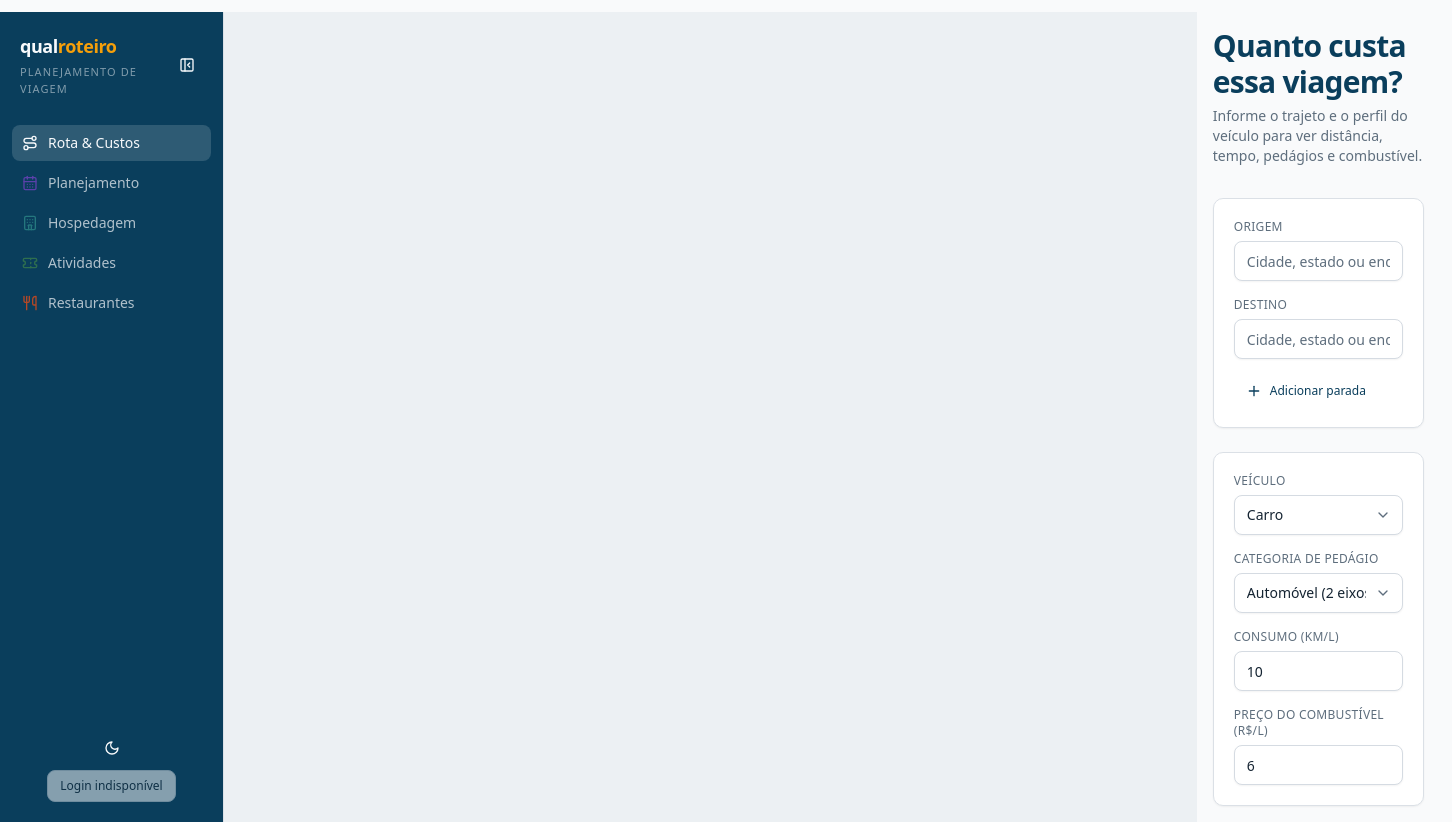
Test: Tela 2 — resultado › keeps the same map container when the result screen opens
The image size is (1452, 822).
Type "São" into the dropdown labelled "Origem" at [1318, 261], box [1234,241,1403,281]
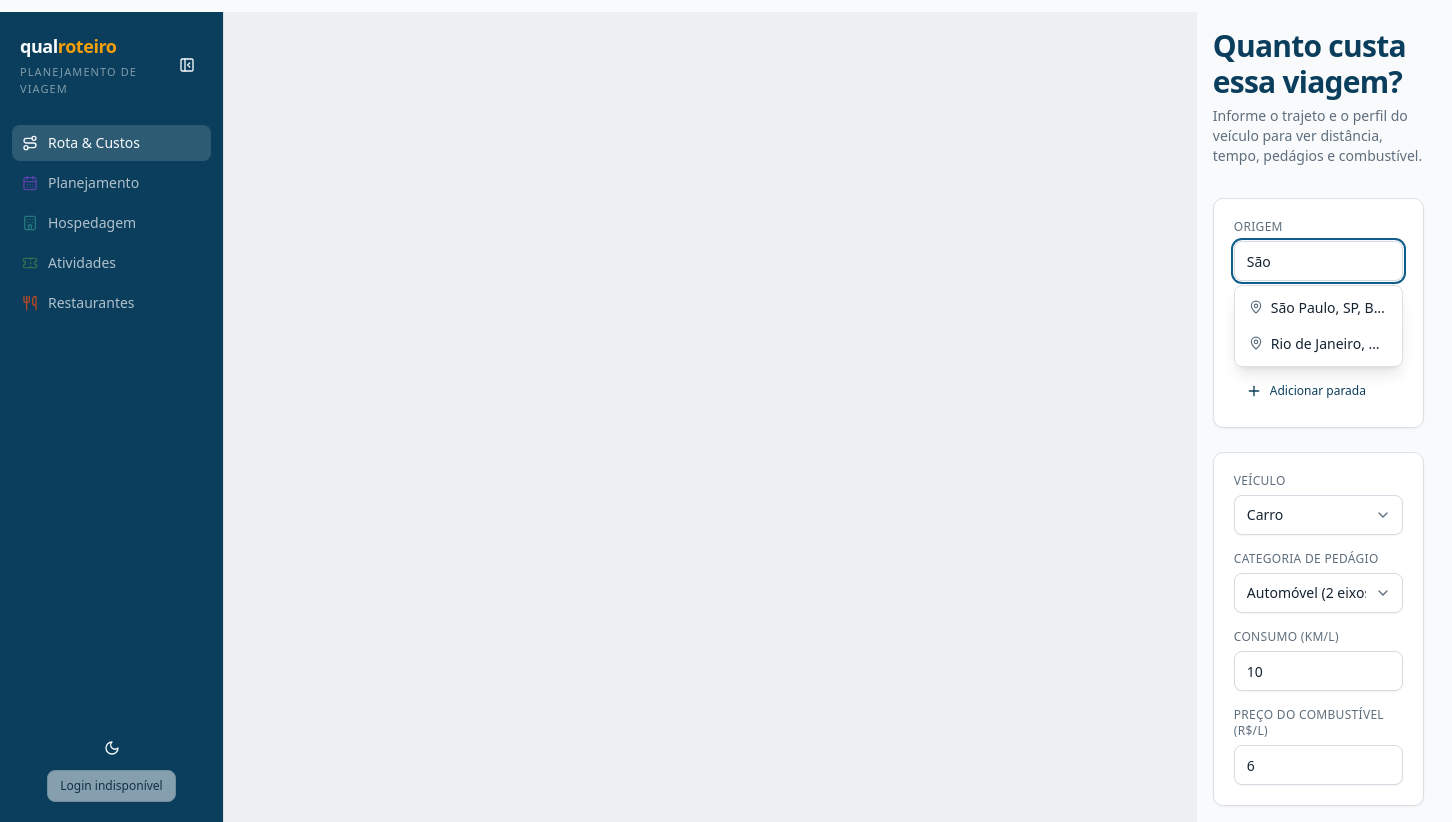
Click the option "São Paulo, SP, Brasil" at [1318, 308], box [1239,290,1398,326]
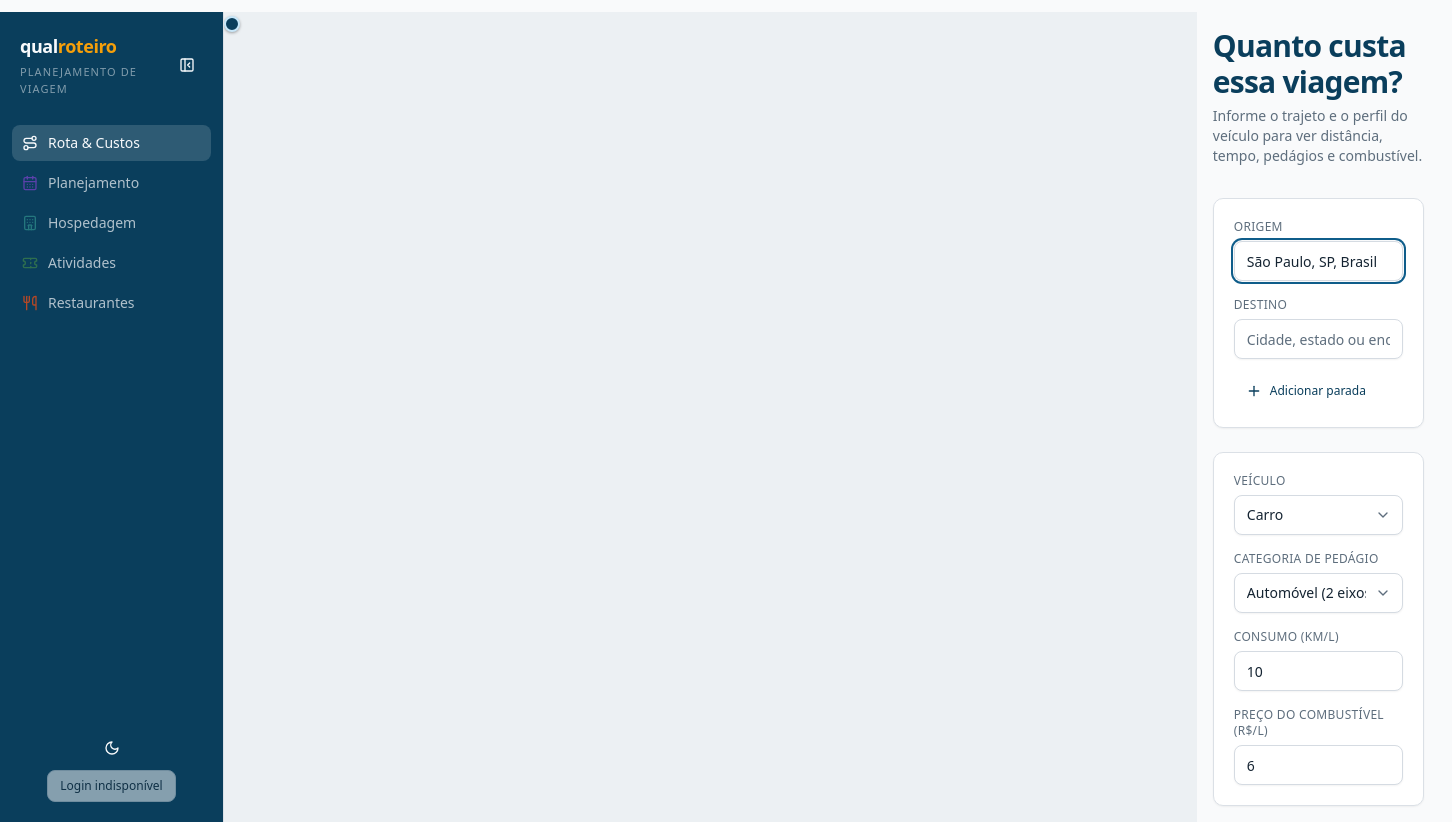
Type "Rio" into the dropdown labelled "Destino" at [1318, 339], box [1234,319,1403,359]
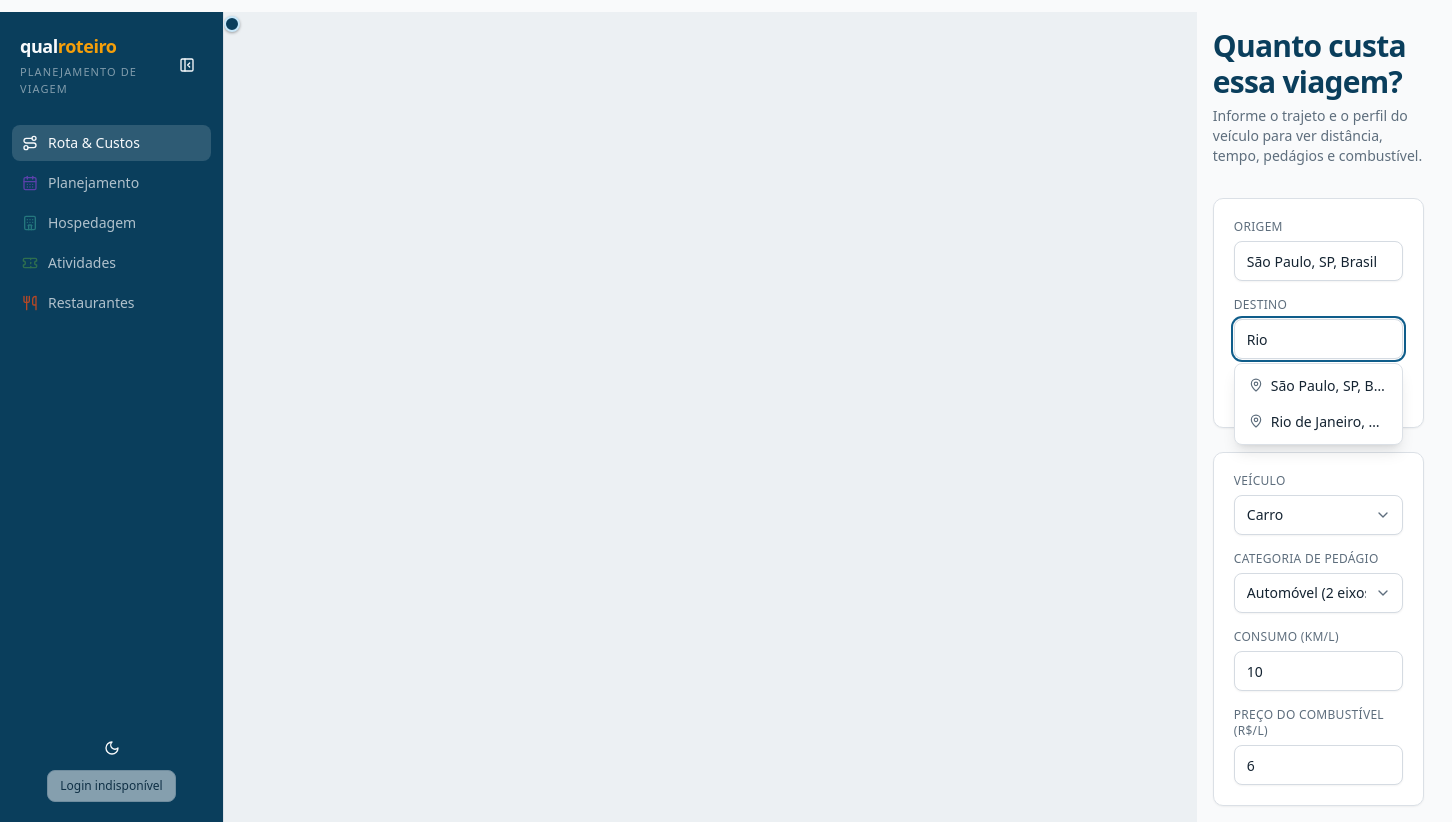
Click the option "Rio de Janeiro, RJ, Brasil" at [1318, 422], box [1239,404,1398,440]
(page scrolled)
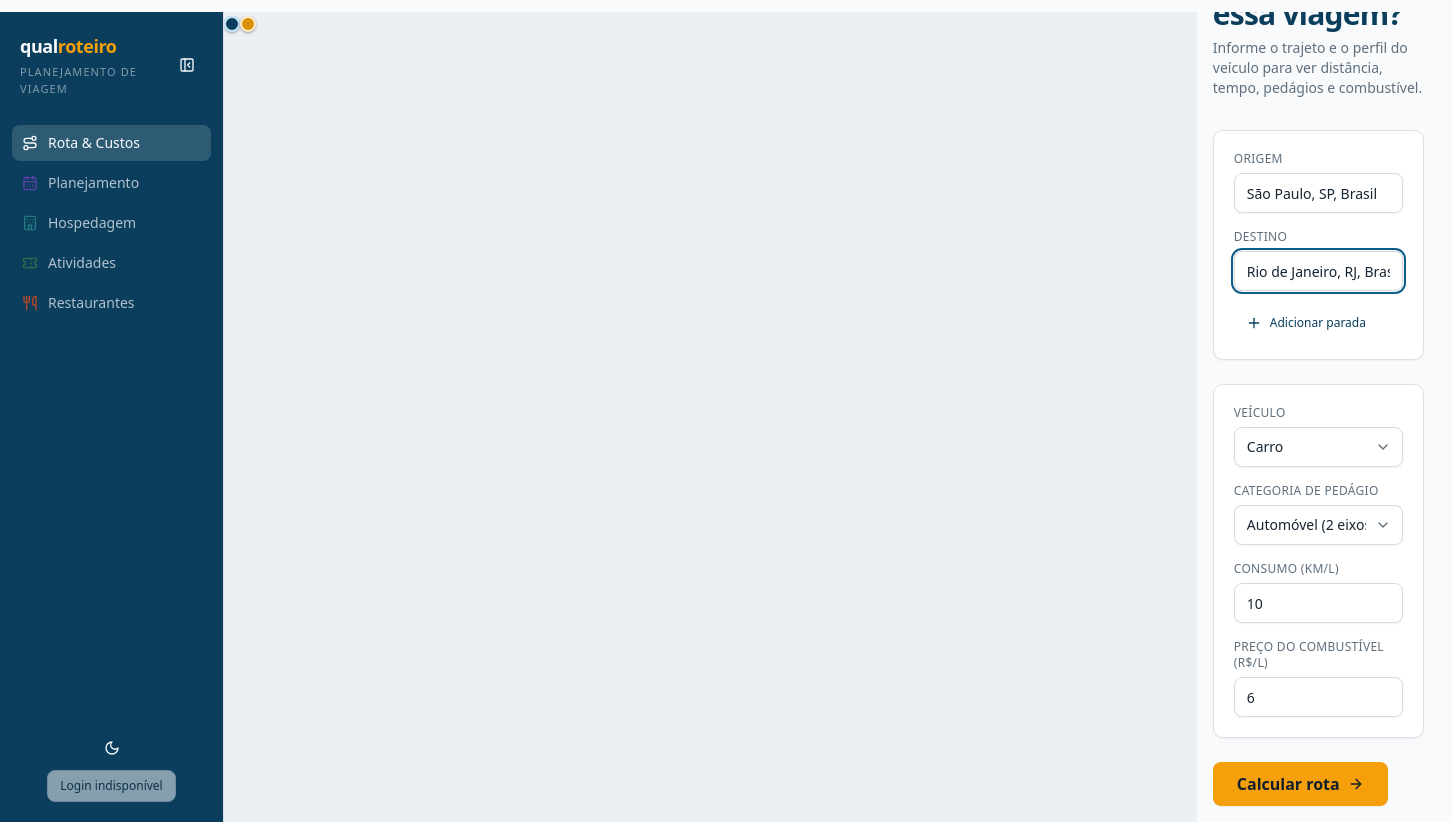
Click the button "Calcular rota" at [1300, 784], box [1213,762,1388,806]
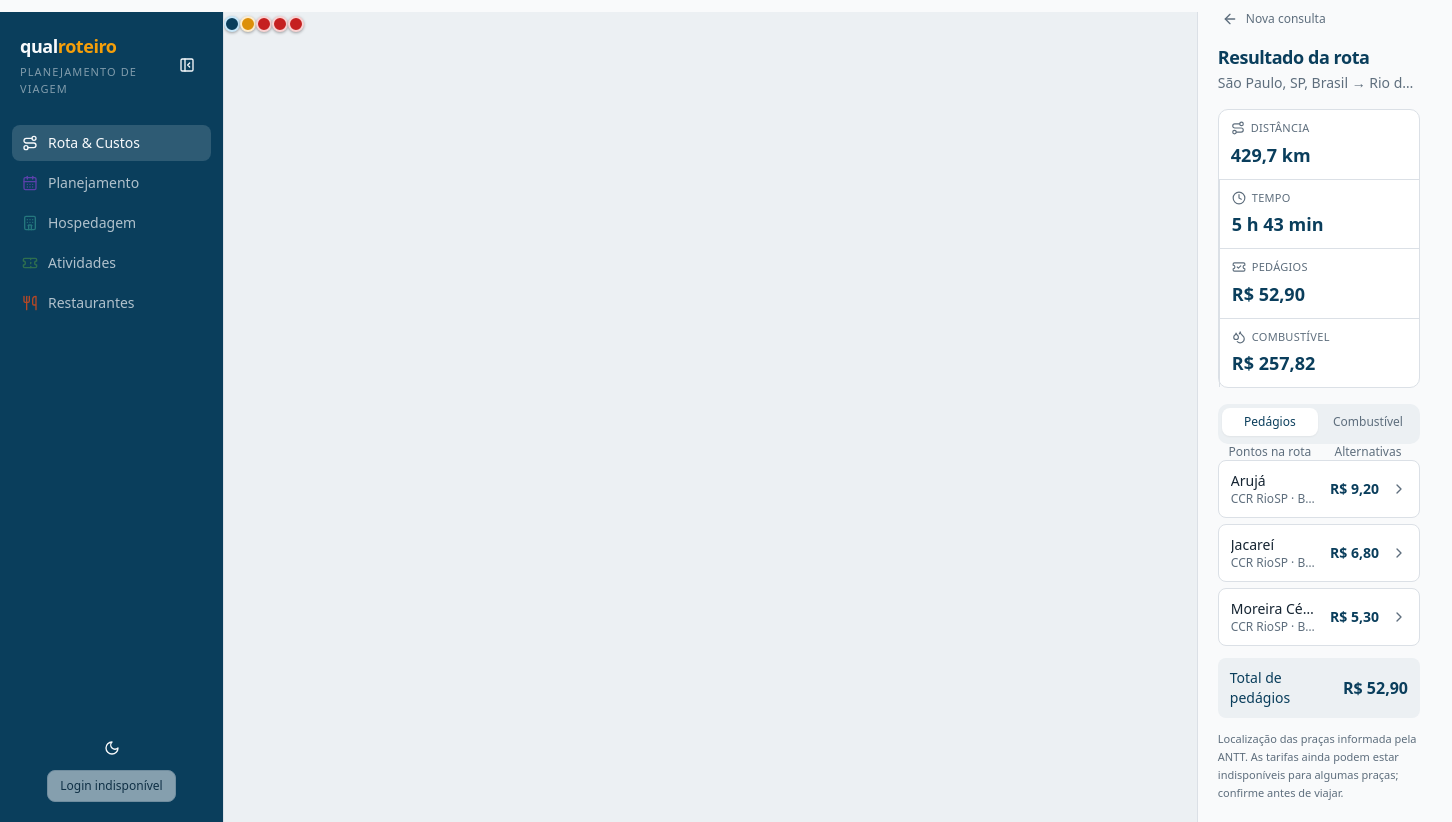
Now the heading "Resultado da rota" is shown, box [1218,45,1369,69]
